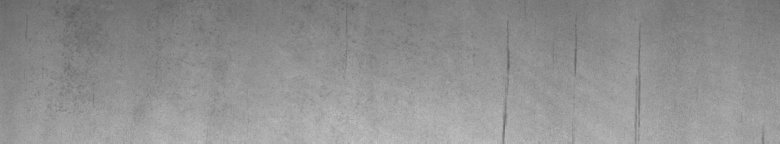ka: (571, 44, 644, 128)
